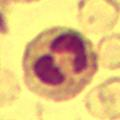eosi: (18, 24, 97, 100)
